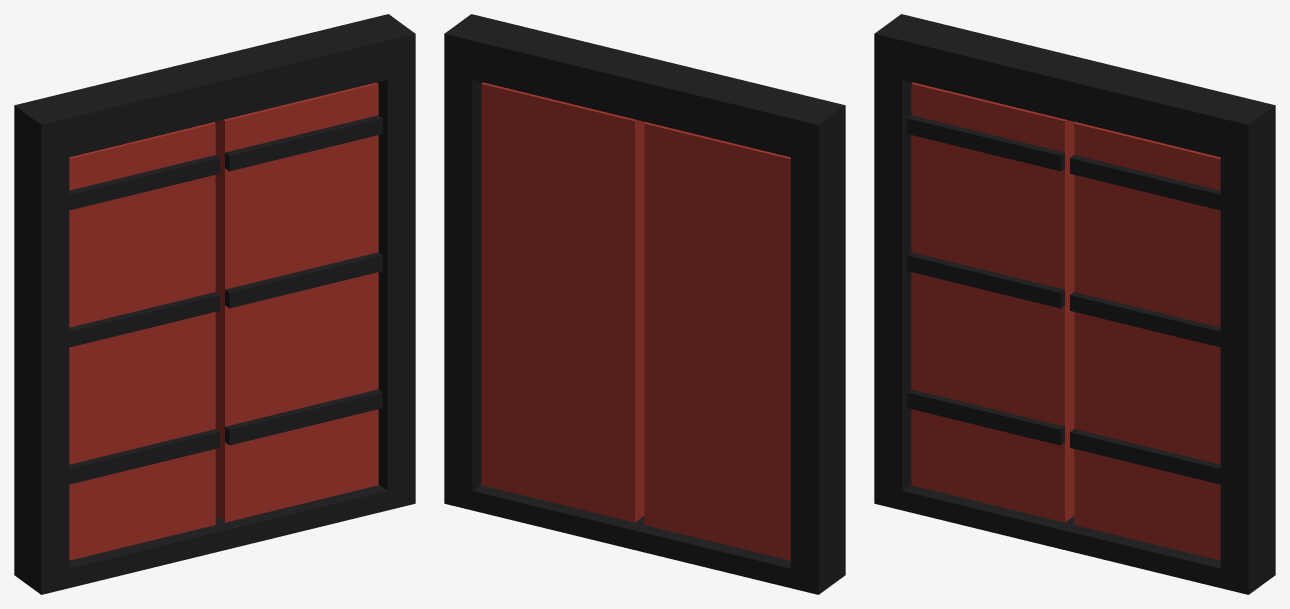
3 views of the same model, side by side, from view 1: azimuth 30°, elevation 25°; view 2: azimuth 150°, elevation 25°; view 3: azimuth 330°, elevation 25° (orthographic).
Parts seen in each view (by area): view 1: door-panel-double-a@1.0.0; view 2: door-panel-double-a@1.0.0; view 3: door-panel-double-a@1.0.0.
Part boxes in pixels (bbox=[...]): door-panel-double-a@1.0.0: bbox=[14, 14, 415, 594]; door-panel-double-a@1.0.0: bbox=[444, 14, 845, 594]; door-panel-double-a@1.0.0: bbox=[874, 14, 1275, 594].
Bounding box in the file's own units: 2 × 2.4 × 0.25.
